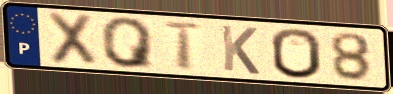8: (328, 32, 375, 83)
K: (218, 22, 262, 77)
O: (269, 26, 325, 81)
Q: (99, 16, 158, 70)
T: (161, 20, 206, 73)
X: (44, 10, 99, 69)
